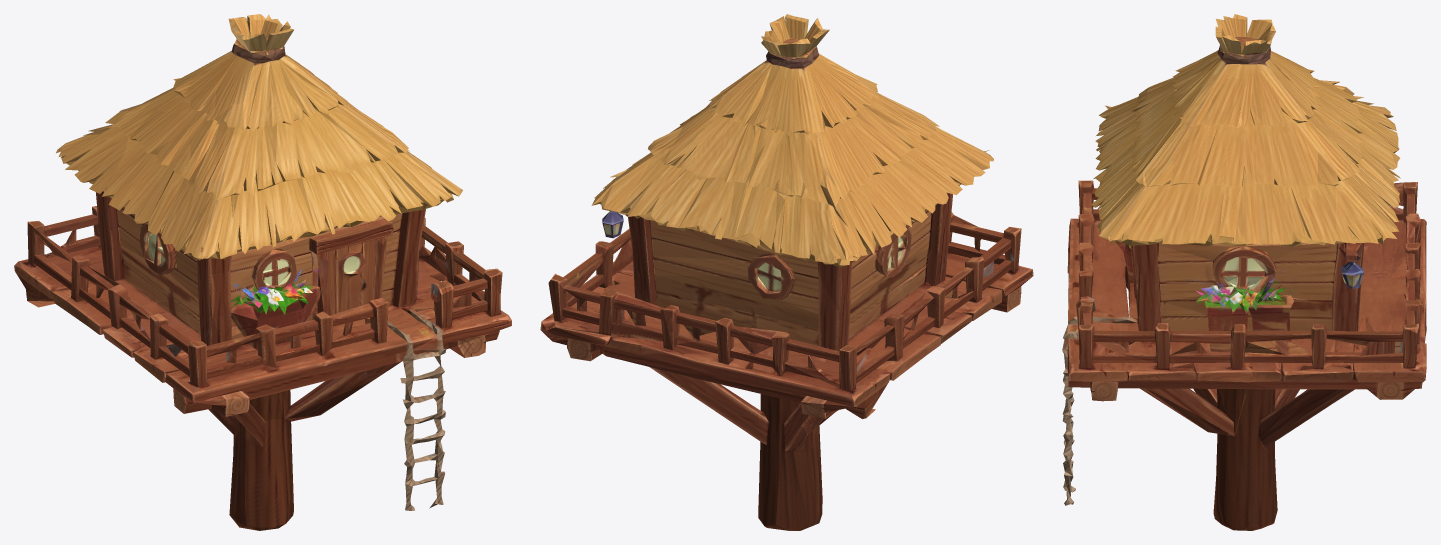
Rendered from treehouse.glb.
The picture shows the model from 3 angles, left to right: view 1: azimuth 30°, elevation 25°; view 2: azimuth 150°, elevation 25°; view 3: azimuth 270°, elevation 25°; orthographic projection.
Parts seen in each view (by area): view 1: treehouse; view 2: treehouse; view 3: treehouse.
Boxes of the visible parts, x1=… form: treehouse: x1=14, y1=14, x2=511, y2=530; treehouse: x1=540, y1=14, x2=1033, y2=530; treehouse: x1=1062, y1=14, x2=1426, y2=530.
Bounding box in the file's own units: 6.67 × 10 × 6.68.
Materials: 1 (1 with a texture image).
